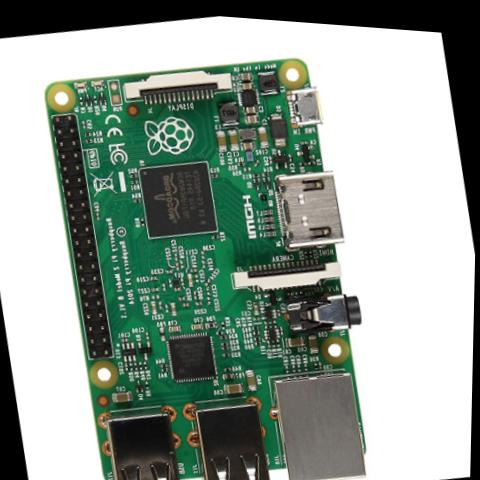Raspberry-Pi-2-Model-B: (22, 19, 404, 480)
